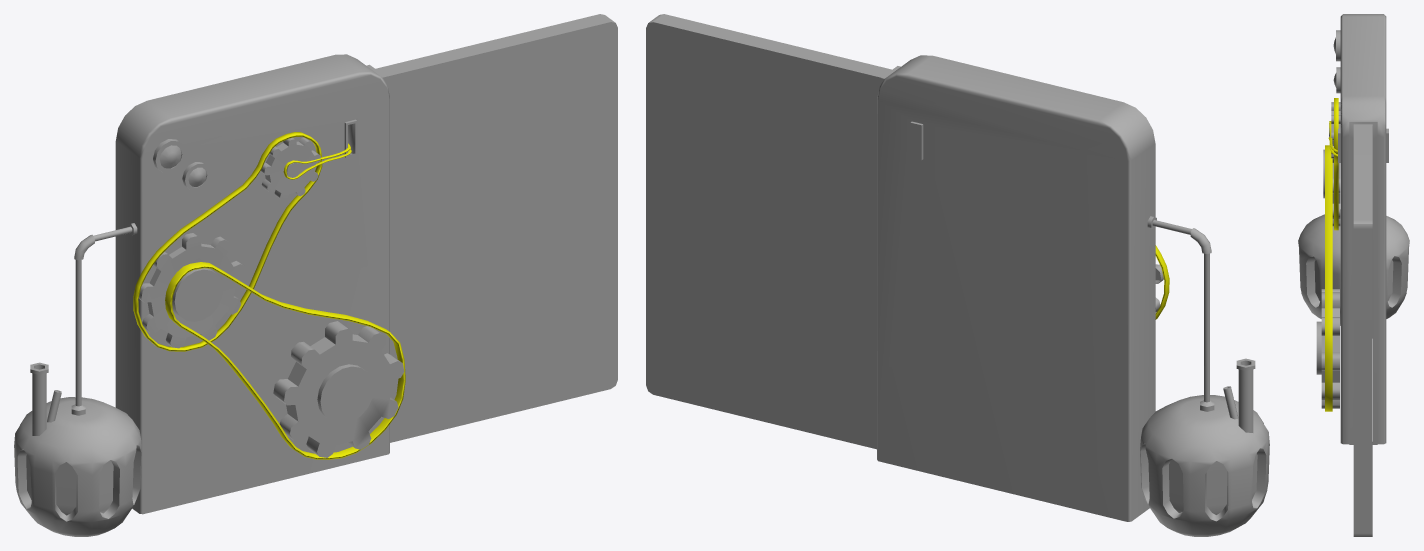
Rendered from Main_Door.fbx.
3 views of the same model, side by side, from view 1: azimuth 30°, elevation 25°; view 2: azimuth 150°, elevation 25°; view 3: azimuth 270°, elevation 25° (orthographic). The views are drawn at different scales.
Visible parts, largest first — view 1: Main_Door_Static, Main_Door_Movable, Gear_1, defaultBrush1Main1, Gear_2, Gear_3; view 2: Main_Door_Static, Main_Door_Movable; view 3: Main_Door_Static, Main_Door_Movable, defaultBrush1Main1, Gear_1, Gear_2, Gear_3.
Boxes of the visible parts, box(x1,y1,x2,y2) form: Main_Door_Static: box(14, 54, 389, 536); Main_Door_Movable: box(375, 14, 617, 442); Gear_1: box(273, 321, 404, 457); defaultBrush1Main1: box(133, 132, 405, 459); Gear_2: box(139, 233, 245, 348); Gear_3: box(260, 137, 320, 199); Main_Door_Static: box(877, 55, 1269, 536); Main_Door_Movable: box(646, 14, 891, 449); Main_Door_Static: box(1298, 14, 1409, 444); Main_Door_Movable: box(1353, 124, 1372, 536); defaultBrush1Main1: box(1325, 98, 1338, 411); Gear_1: box(1316, 289, 1339, 408); Gear_2: box(1323, 149, 1340, 226); Gear_3: box(1329, 102, 1340, 158).
Size of the model in its own units: 733 by 458 by 138.
